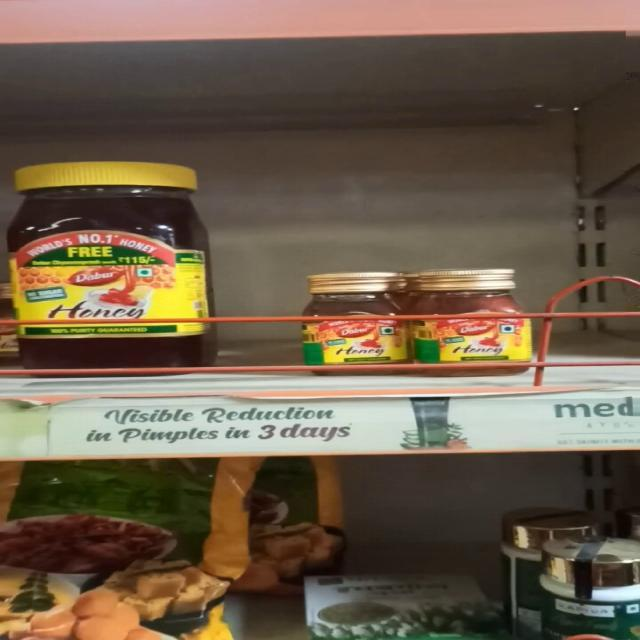Dabur Honey: (22, 159, 220, 364), (418, 262, 538, 372), (306, 268, 414, 372)
